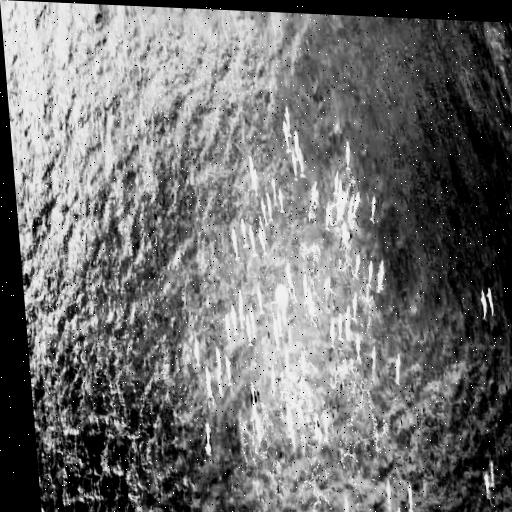balloon: (275, 286, 290, 307)
